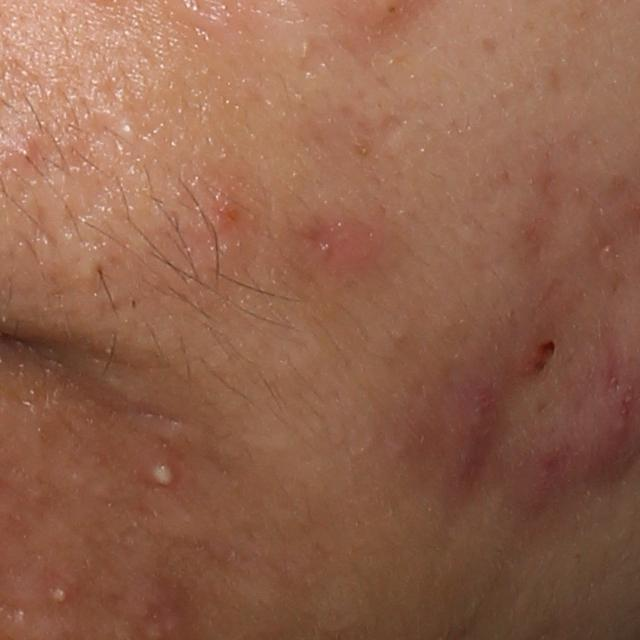atrophic_scar: (10, 448, 146, 578), (522, 159, 574, 256), (298, 33, 336, 80), (372, 112, 408, 147)
papule: (447, 379, 503, 482), (327, 226, 385, 272), (519, 329, 560, 374), (3, 131, 46, 171), (209, 195, 247, 235)
pustule: (143, 454, 188, 495), (44, 578, 78, 613)
